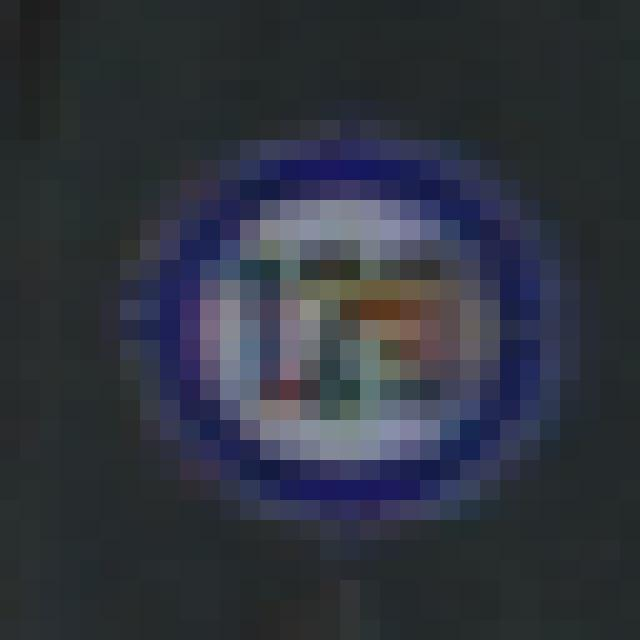SPEED LIMIT 120: (105, 125, 557, 527)
